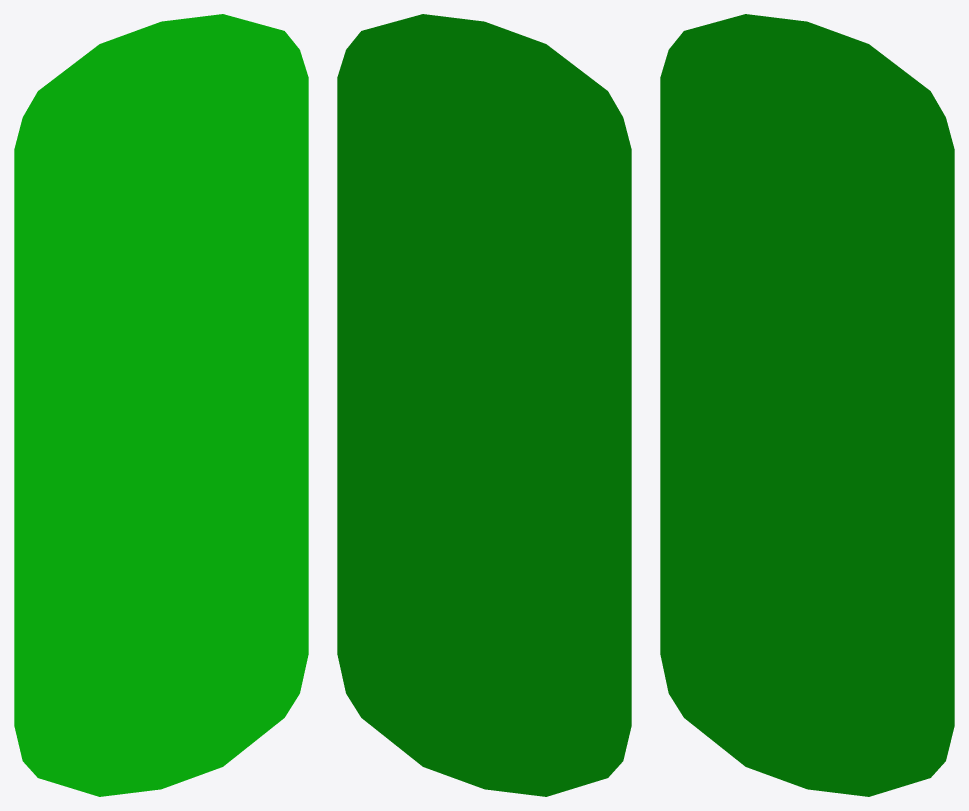
3 views of the same model, side by side, from view 1: azimuth 30°, elevation 25°; view 2: azimuth 150°, elevation 25°; view 3: azimuth 330°, elevation 25° (orthographic).
Parts seen in each view (by area): view 1: Plano_049-mesh; view 2: Plano_049-mesh; view 3: Plano_049-mesh.
Part boxes in pixels (left/top/right/bottom): Plano_049-mesh: left=14, top=14, right=308, bottom=796; Plano_049-mesh: left=337, top=14, right=631, bottom=796; Plano_049-mesh: left=660, top=14, right=954, bottom=796.
Size of the model in its own units: 1.04 by 2.59 by 5.76e-16.
